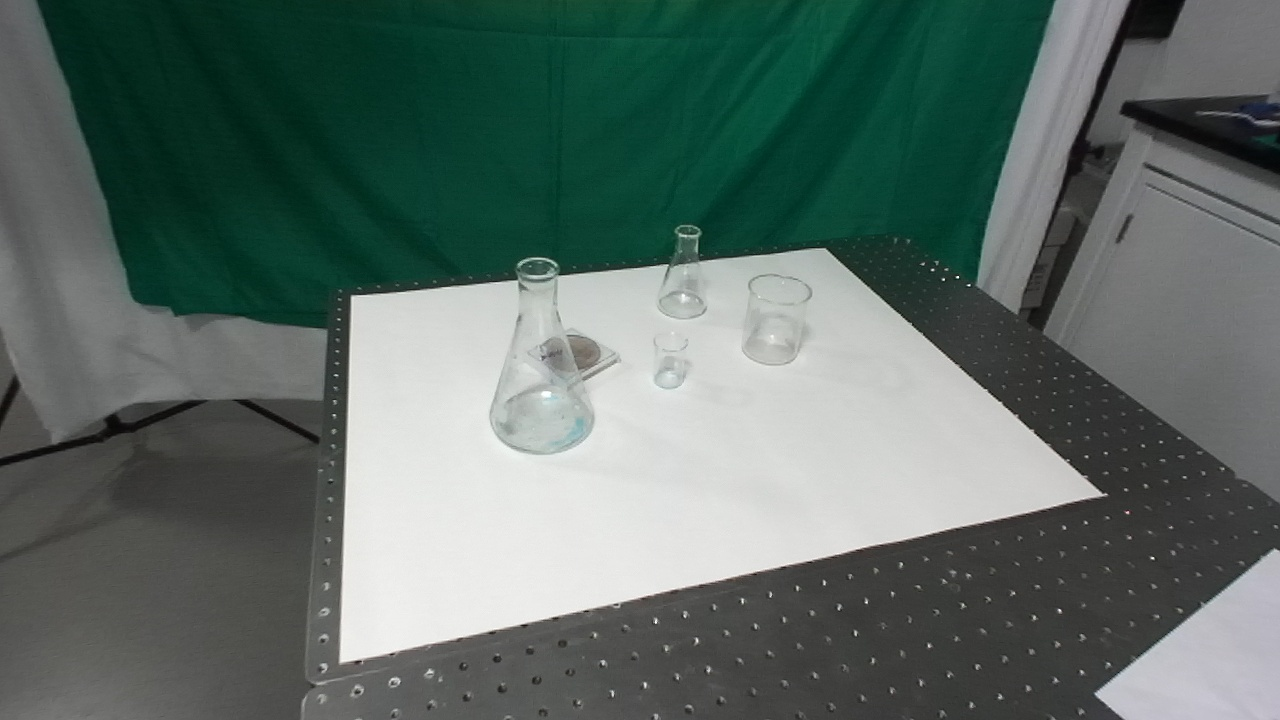glass: (483, 252, 598, 458), (739, 271, 814, 369), (657, 223, 712, 325), (651, 327, 692, 392)
plate: (521, 324, 623, 393)
